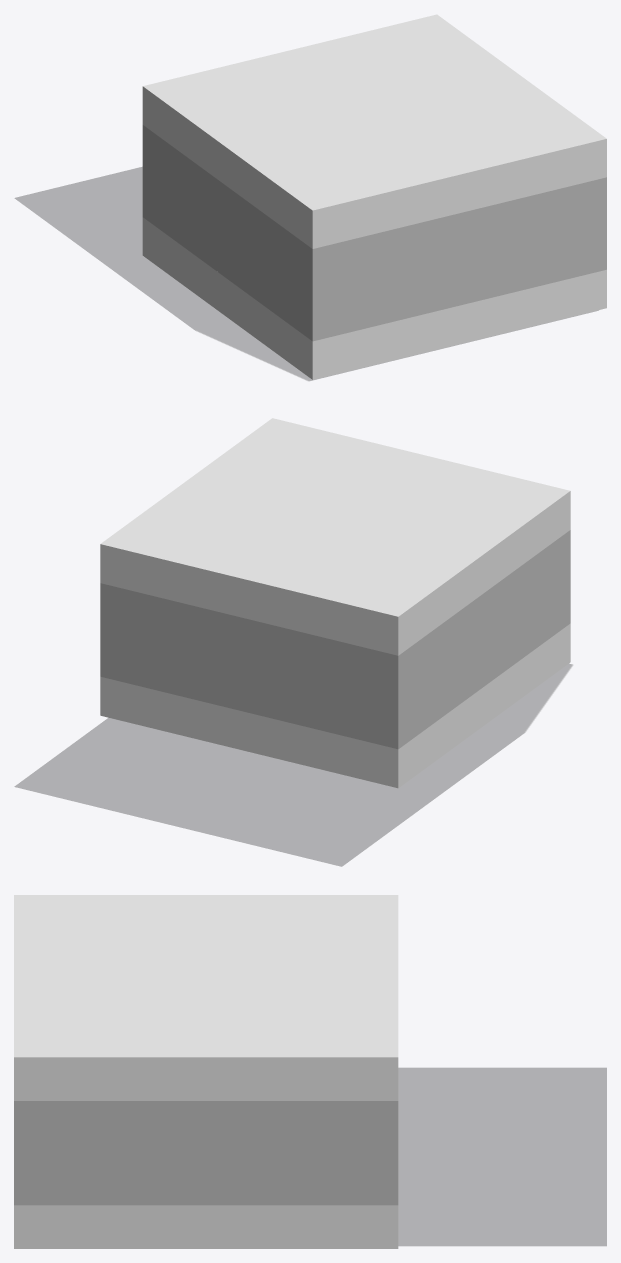
File: block_34.glb
The picture shows the model from 3 angles, top to bottom: view 1: azimuth 30°, elevation 25°; view 2: azimuth 150°, elevation 25°; view 3: azimuth 270°, elevation 25°; orthographic projection. The views are drawn at different scales.
Parts seen in each view (by area): view 1: hitObj, block; view 2: hitObj, block; view 3: hitObj, block.
Part boxes in pixels (bbox=[...]): hitObj: bbox=[142, 14, 606, 379]; block: bbox=[15, 167, 595, 380]; hitObj: bbox=[100, 418, 570, 788]; block: bbox=[15, 664, 572, 866]; hitObj: bbox=[14, 895, 398, 1248]; block: bbox=[398, 1068, 606, 1245].
Size of the model in its own units: 11.24 by 5.53 by 15.43.
3 materials, 1 textured.
